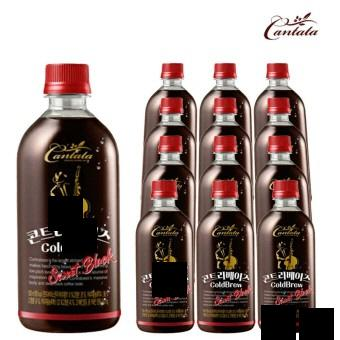contrabass_sweetblack: (16, 61, 124, 331), (133, 176, 196, 333), (261, 181, 322, 333), (199, 180, 254, 335)
